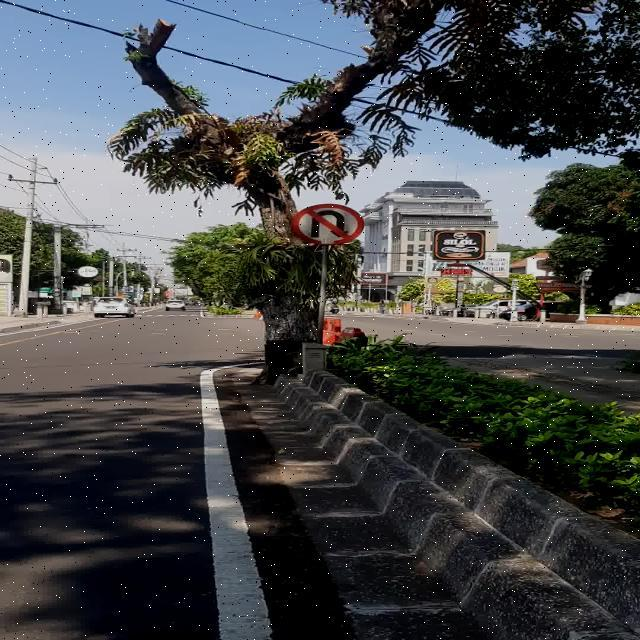Dilarang Putar Balik: (292, 203, 364, 244)
